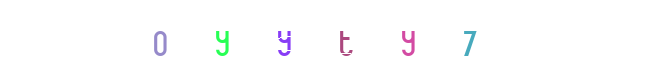7: (361, 0, 441, 80)
O: (182, 0, 262, 80)
T: (295, 0, 375, 80)
Y: (195, 0, 275, 80), (244, 0, 324, 80), (339, 0, 419, 80)
